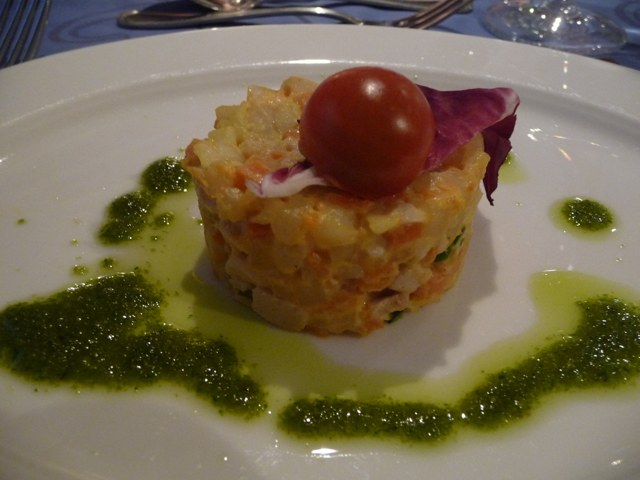tomato: (299, 66, 436, 200)
